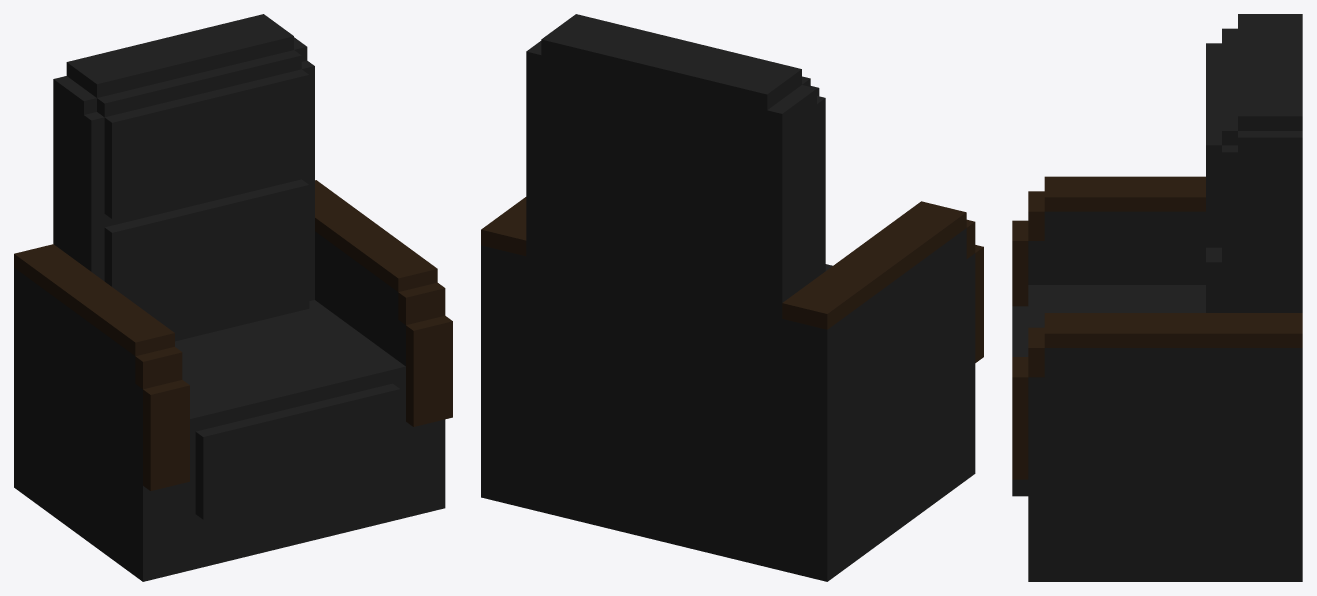
File: Chair6.fbx
3 views of the same model, side by side, from view 1: azimuth 30°, elevation 25°; view 2: azimuth 150°, elevation 25°; view 3: azimuth 270°, elevation 25° (orthographic). The views are drawn at different scales.
Visible parts, largest first — view 1: Chair6; view 2: Chair6; view 3: Chair6.
Part boxes in pixels (left/top/right/bottom): Chair6: left=14, top=14, right=452, bottom=581; Chair6: left=481, top=14, right=983, bottom=581; Chair6: left=1012, top=14, right=1302, bottom=581.
Size of the model in its own units: 2.3 by 3 by 1.8.
